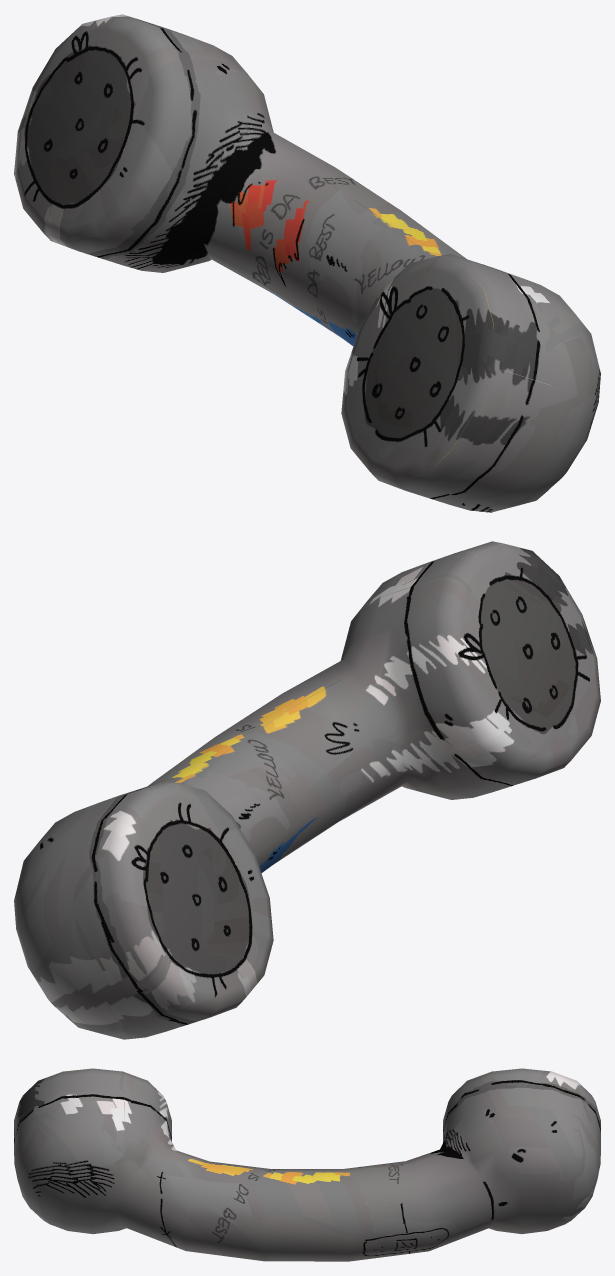
The model's file is Phone.glb.
3 renders of one model, top to bottom at view 1: azimuth 30°, elevation 25°; view 2: azimuth 150°, elevation 25°; view 3: azimuth 270°, elevation 25°, orthographic. The views are drawn at different scales.
Parts seen in each view (by area): view 1: Telefon; view 2: Telefon; view 3: Telefon.
Part boxes in pixels (x1,y1,x2,y2): Telefon: (14, 14, 600, 512); Telefon: (14, 541, 600, 1039); Telefon: (14, 1068, 600, 1261).
Size of the model in its own units: 2.71 by 2.42 by 8.21.
1 material, 1 textured.
